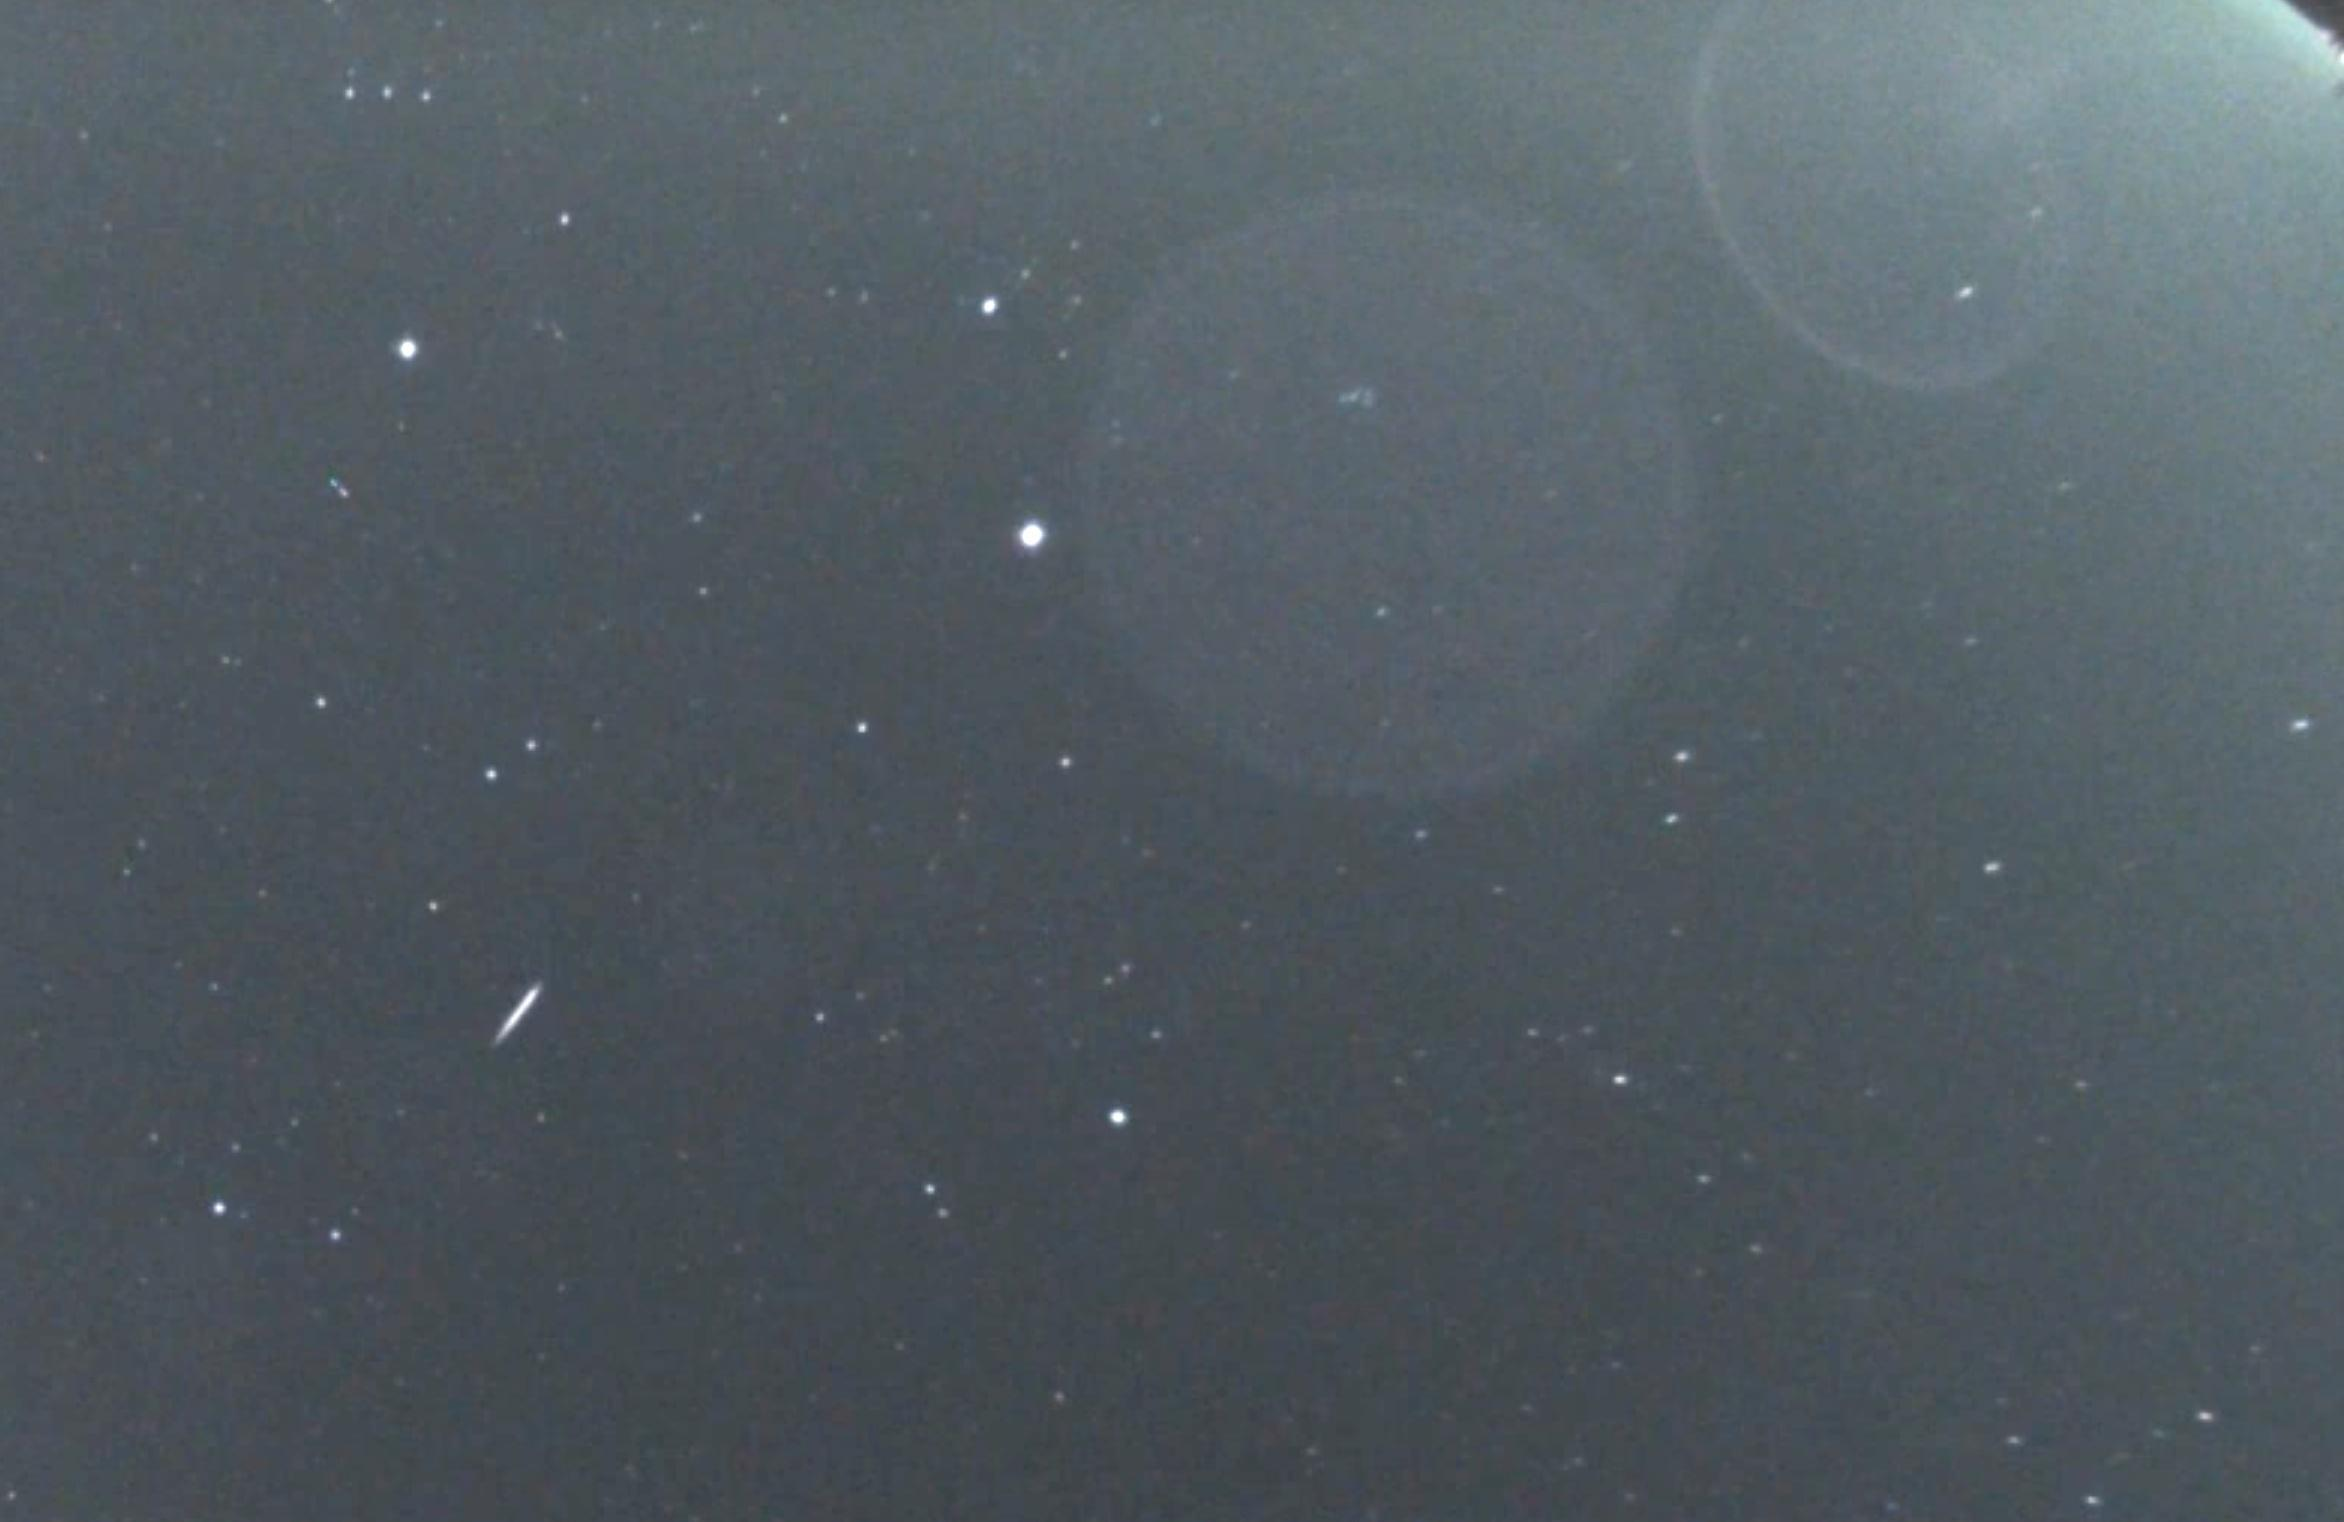Plane: (308, 456, 391, 504)
meteorite: (461, 943, 577, 1076)
